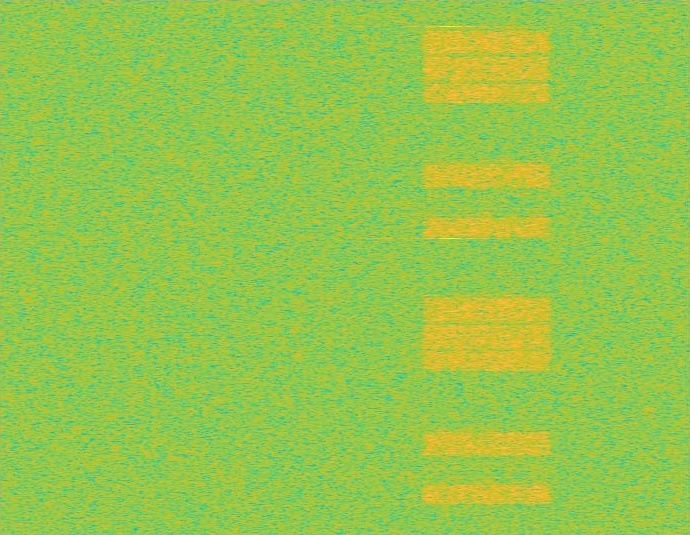LTE: (418, 0, 556, 534)
Radar: (443, 0, 457, 534)
